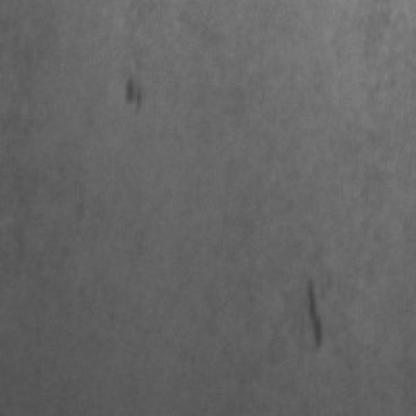inclusion: (293, 268, 329, 352), (115, 68, 144, 114)
